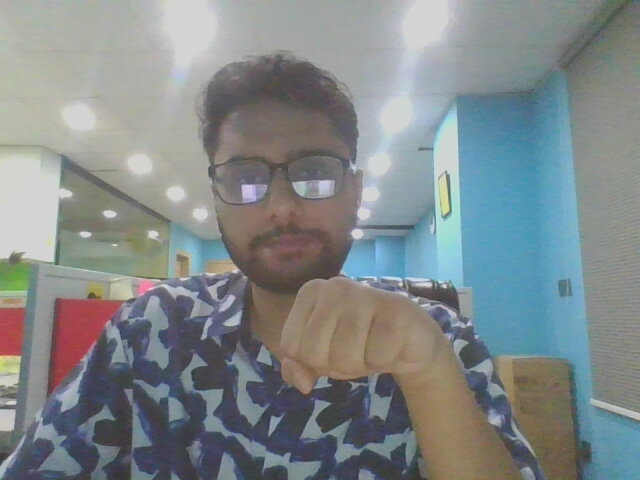yes: (269, 259, 463, 432)
